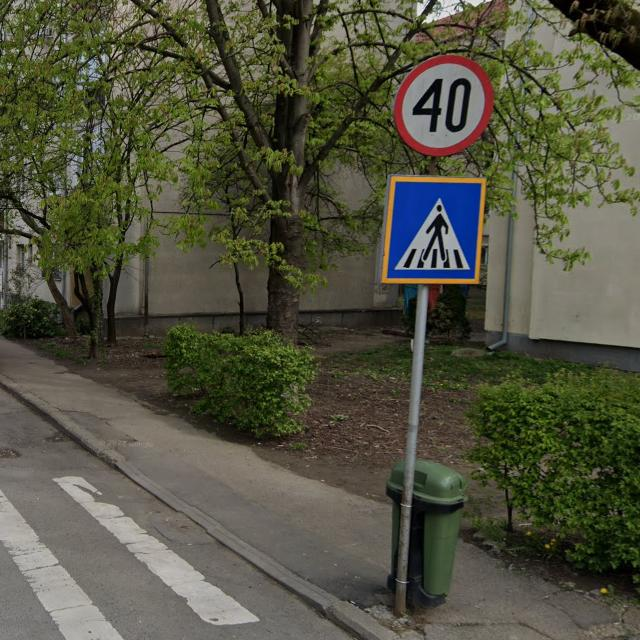forb_speed_over_40: (394, 53, 494, 156)
info_crosswalk: (380, 175, 487, 282)
